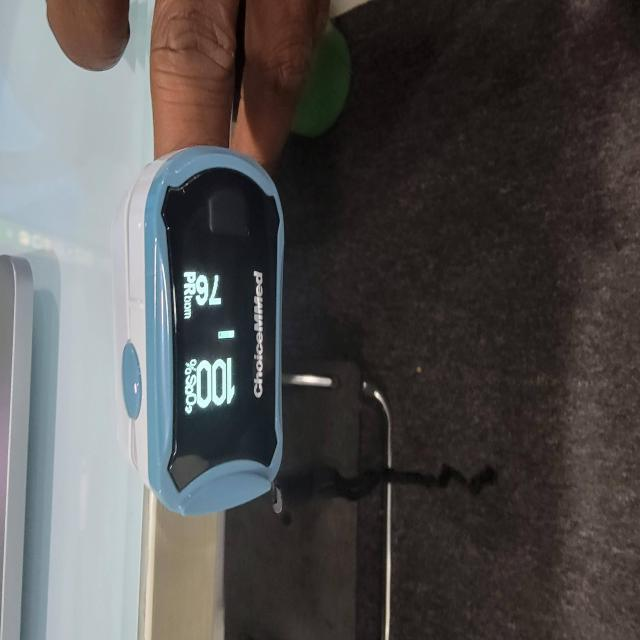spo2: (114, 146, 286, 520)
